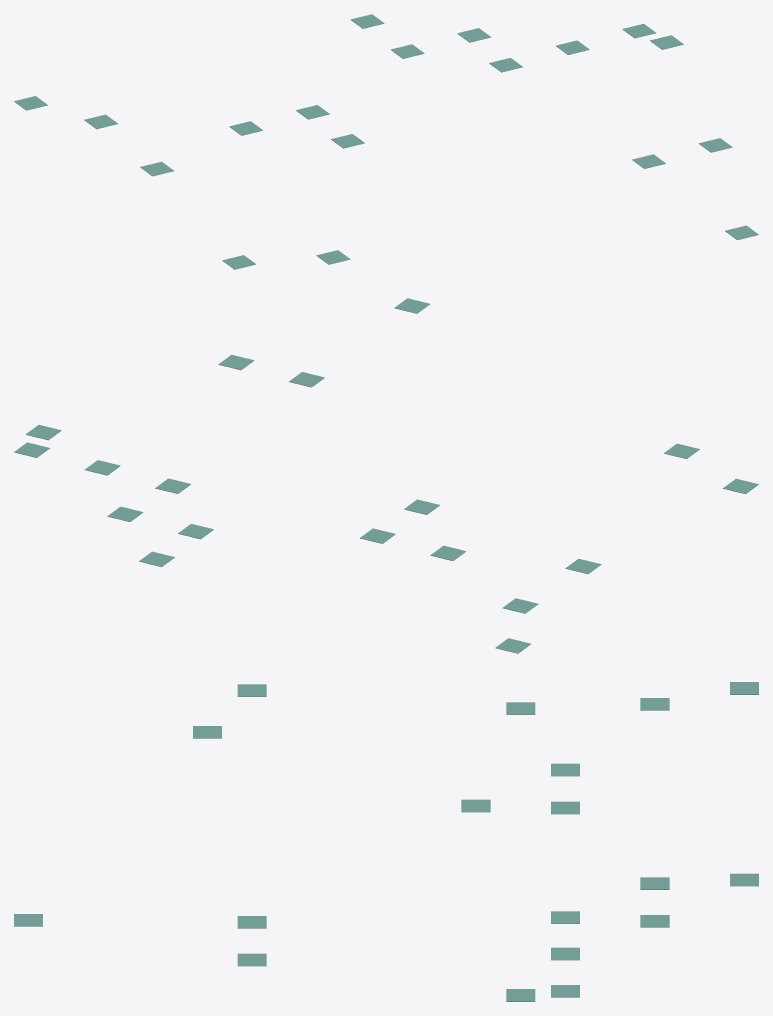
Rendered from GingerbreadVillage_Terrain.fbx.
3 renders of one model, top to bottom at view 1: azimuth 30°, elevation 25°; view 2: azimuth 150°, elevation 25°; view 3: azimuth 270°, elevation 25°, orthographic. The views are drawn at different scales.
Size of the model in its own units: 339 by 3.23 by 333.
